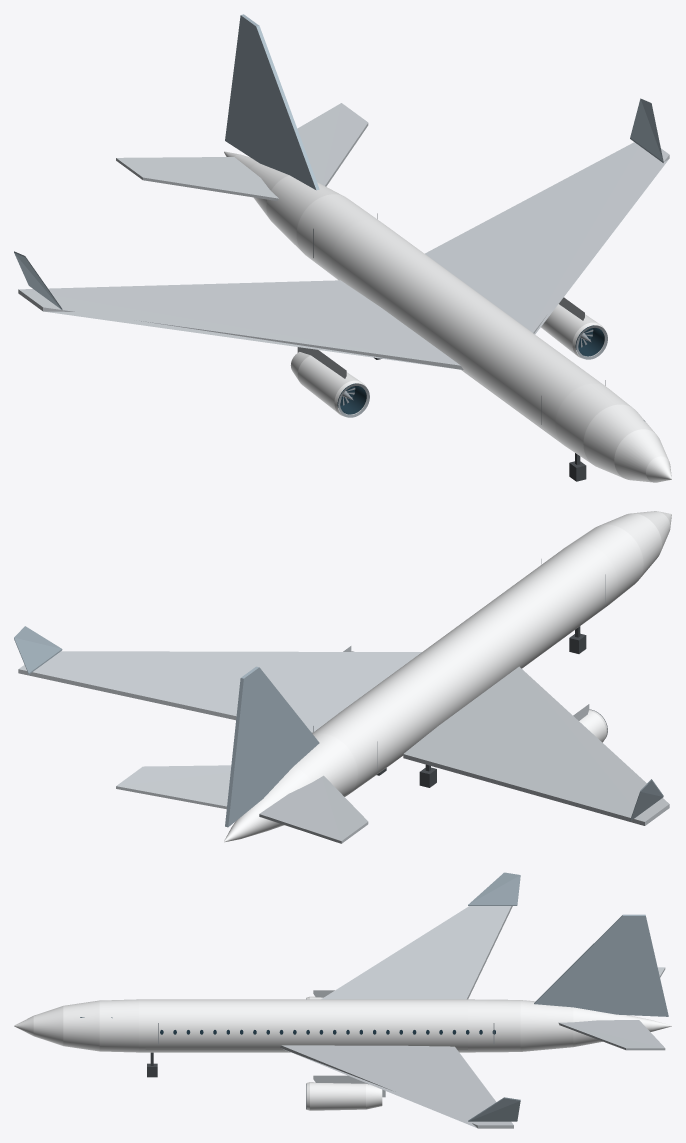
Rendered from b757-neutral-v3.gltf.
3 views of the same model, one above another, from view 1: azimuth 30°, elevation 25°; view 2: azimuth 150°, elevation 25°; view 3: azimuth 270°, elevation 25° (orthographic). The views are drawn at different scales.
Visible parts, largest first — view 1: object 1; view 2: object 1, Gear; view 3: object 1.
Boxes of the visible parts, left/top/right/bottom form: object 1: left=14, top=14, right=671, bottom=482; object 1: left=14, top=511, right=671, bottom=843; Gear: left=377, top=626, right=586, bottom=787; object 1: left=14, top=872, right=671, bottom=1128.
Bounding box in the file's own units: 38 × 12.62 × 47.
